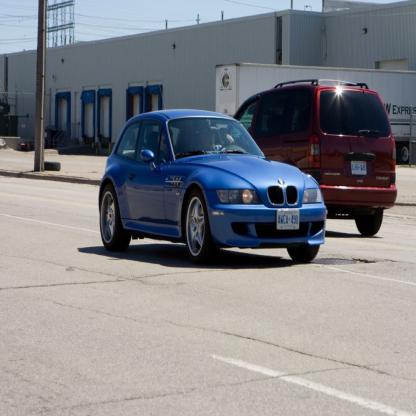Car: (98, 110, 328, 264), (226, 79, 397, 236)
